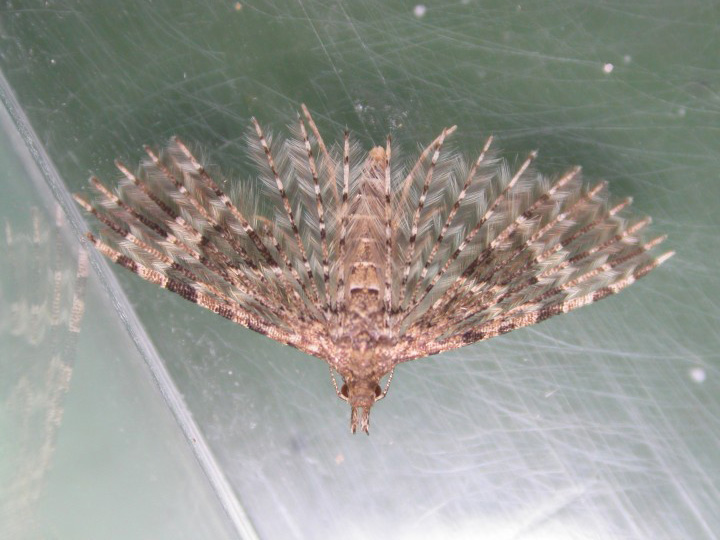Alucitidae: (67, 98, 683, 433)
moth: (69, 100, 685, 435)
